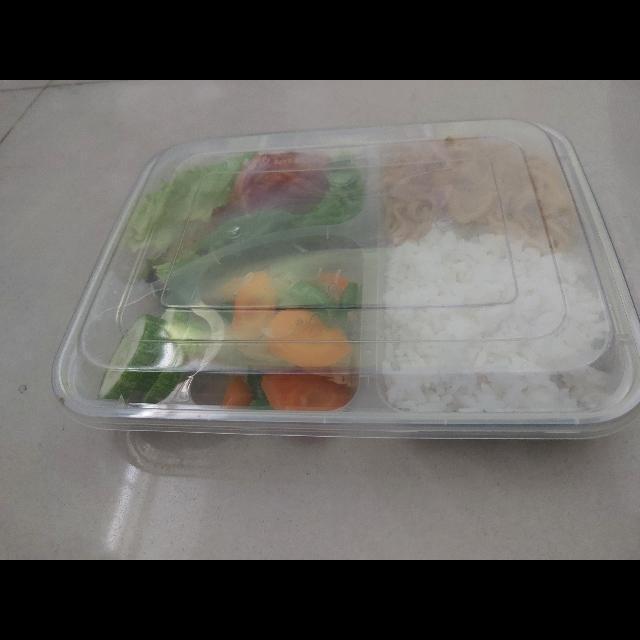bento: (20, 106, 640, 458)
